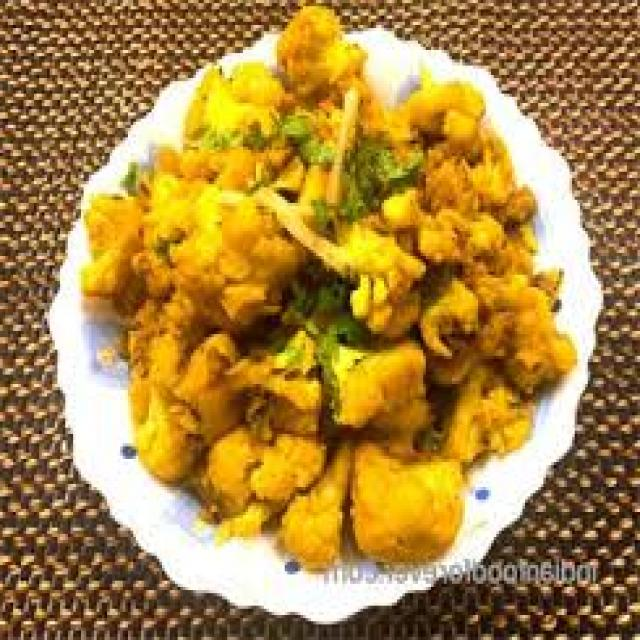Aloo Gobi: (34, 38, 548, 581), (87, 38, 549, 582)
